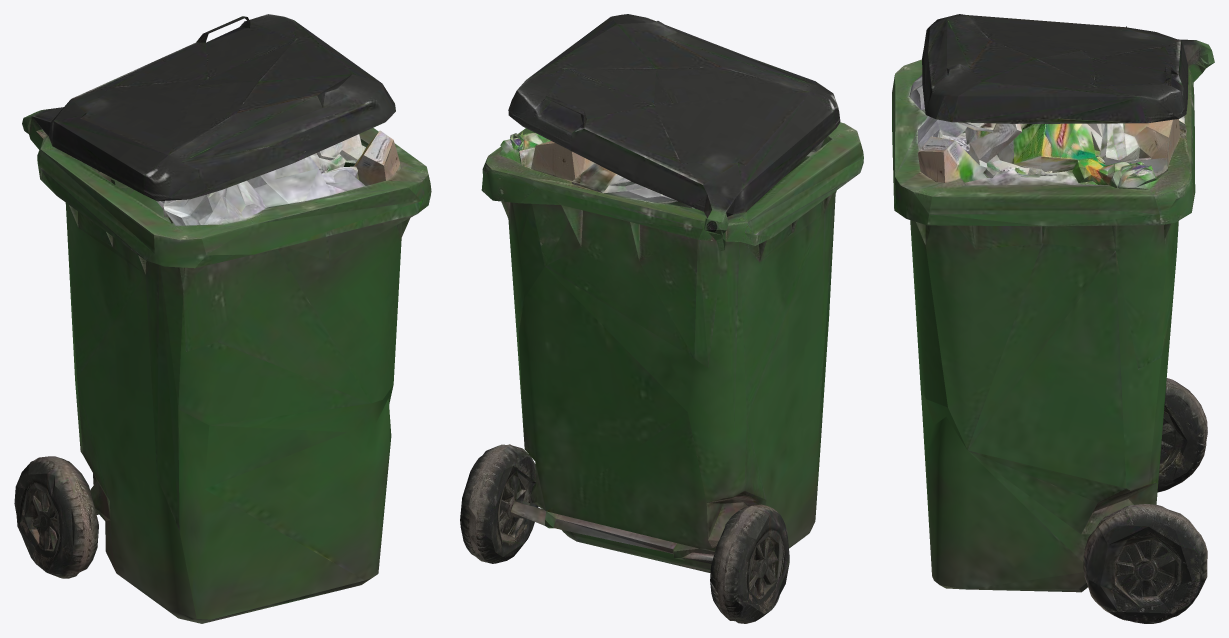
Rendered from prop-wheeliebin.glb.
The picture shows the model from 3 angles, left to right: view 1: azimuth 30°, elevation 25°; view 2: azimuth 150°, elevation 25°; view 3: azimuth 270°, elevation 25°; orthographic projection. The views are drawn at different scales.
Size of the model in its own units: 1.16 by 1.9 by 1.07.
Materials: 1 (1 with a texture image).
